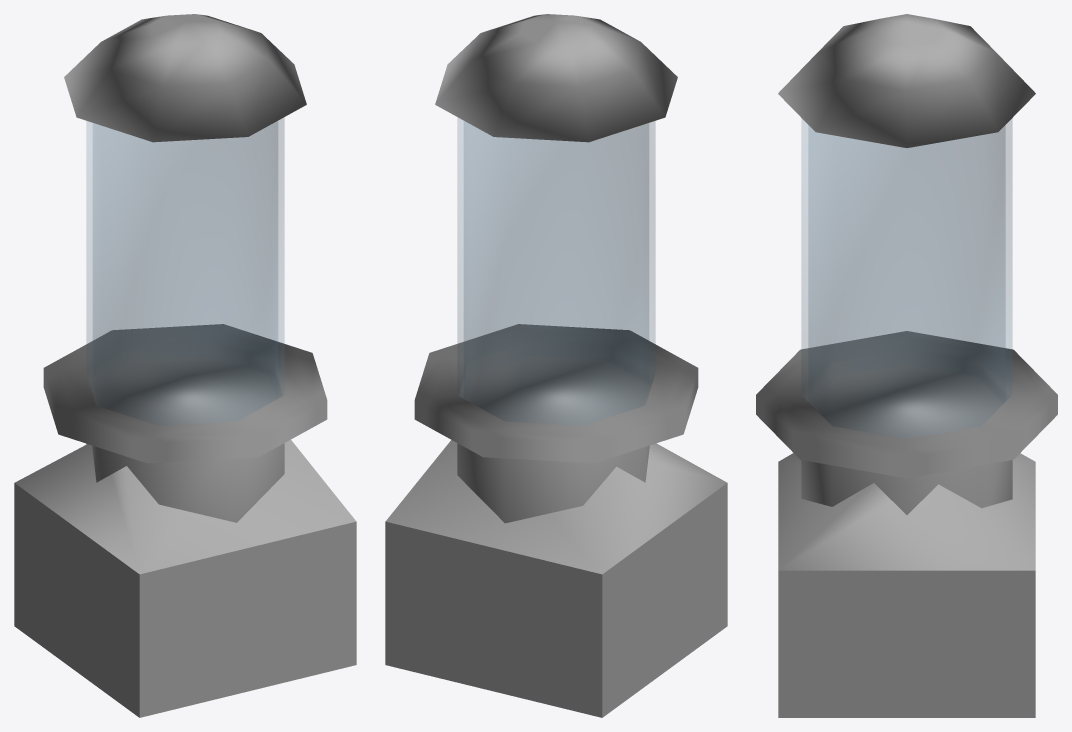
File: itemMesh_lighthouseIs_lightShort.fbx
3 views of the same model, side by side, from view 1: azimuth 30°, elevation 25°; view 2: azimuth 150°, elevation 25°; view 3: azimuth 270°, elevation 25° (orthographic). The views are drawn at different scales.
Visible parts, largest first — view 1: LanternLighthouseShort; view 2: LanternLighthouseShort; view 3: LanternLighthouseShort.
Boxes of the visible parts, left/top/right/bottom form: LanternLighthouseShort: left=14, top=14, right=356, bottom=717; LanternLighthouseShort: left=385, top=14, right=727, bottom=717; LanternLighthouseShort: left=756, top=14, right=1057, bottom=717.
Bounding box in the file's own units: 0.5863 × 1.37 × 0.5863.
